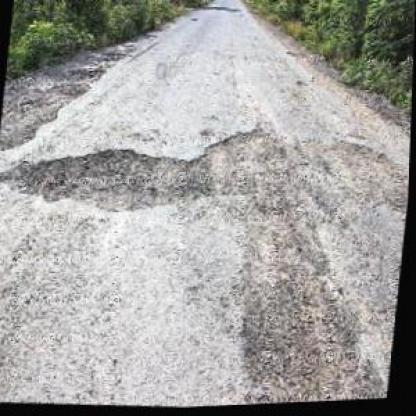pothole: (7, 138, 191, 218), (194, 123, 273, 211)
